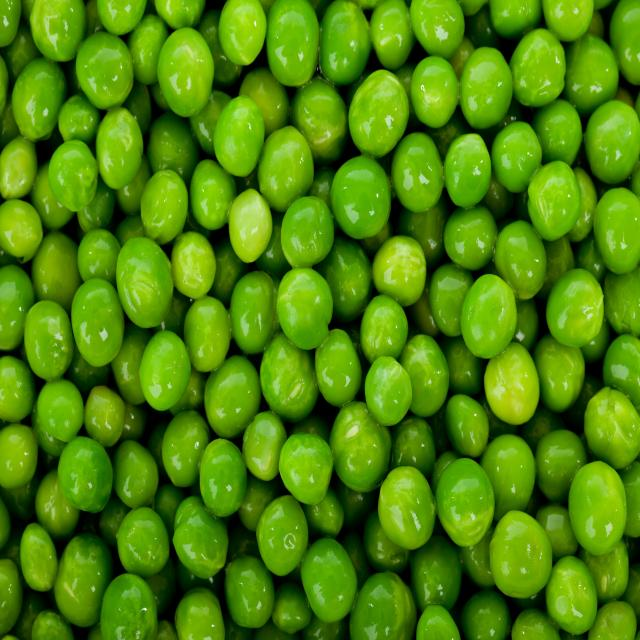pea: (0, 4, 640, 640)
